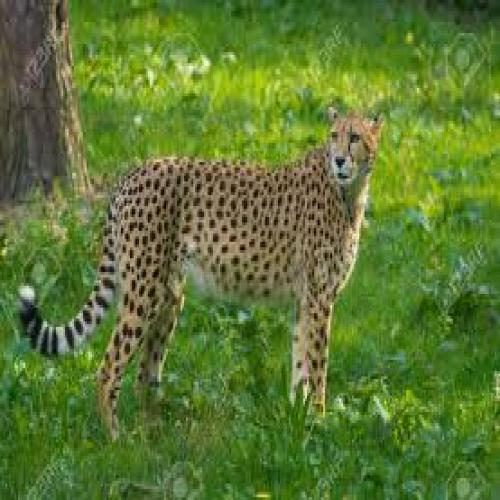cheetah-endangered: (19, 111, 382, 407)
